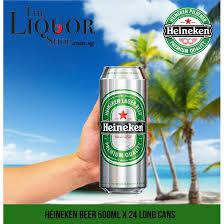beer: (98, 65, 147, 196)
